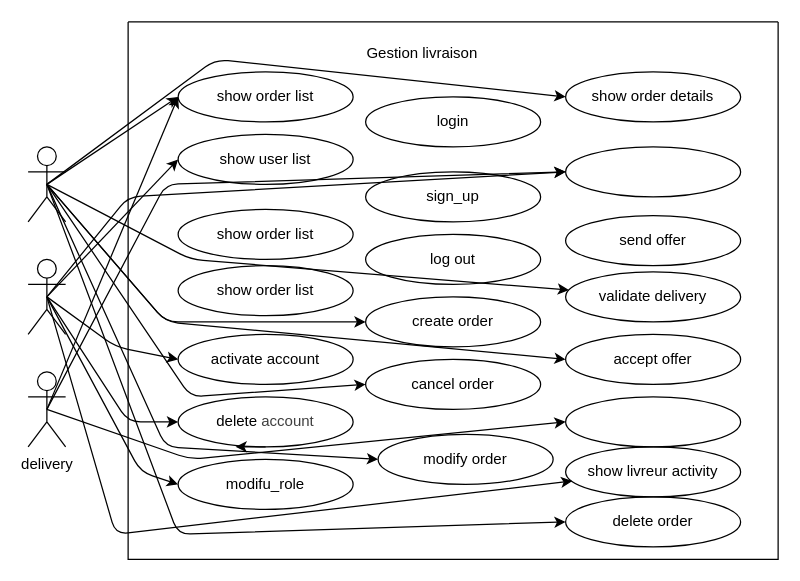
Image size: 800x581. Some labels were removed from this diagram. The centre of each missing label's shape, as x and y in pixels:
"admin" belongs at point 46,296.
"change status" belongs at point 652,421.
"Client" belongs at point 46,184.
"show inactive orders" belongs at point 652,171.
